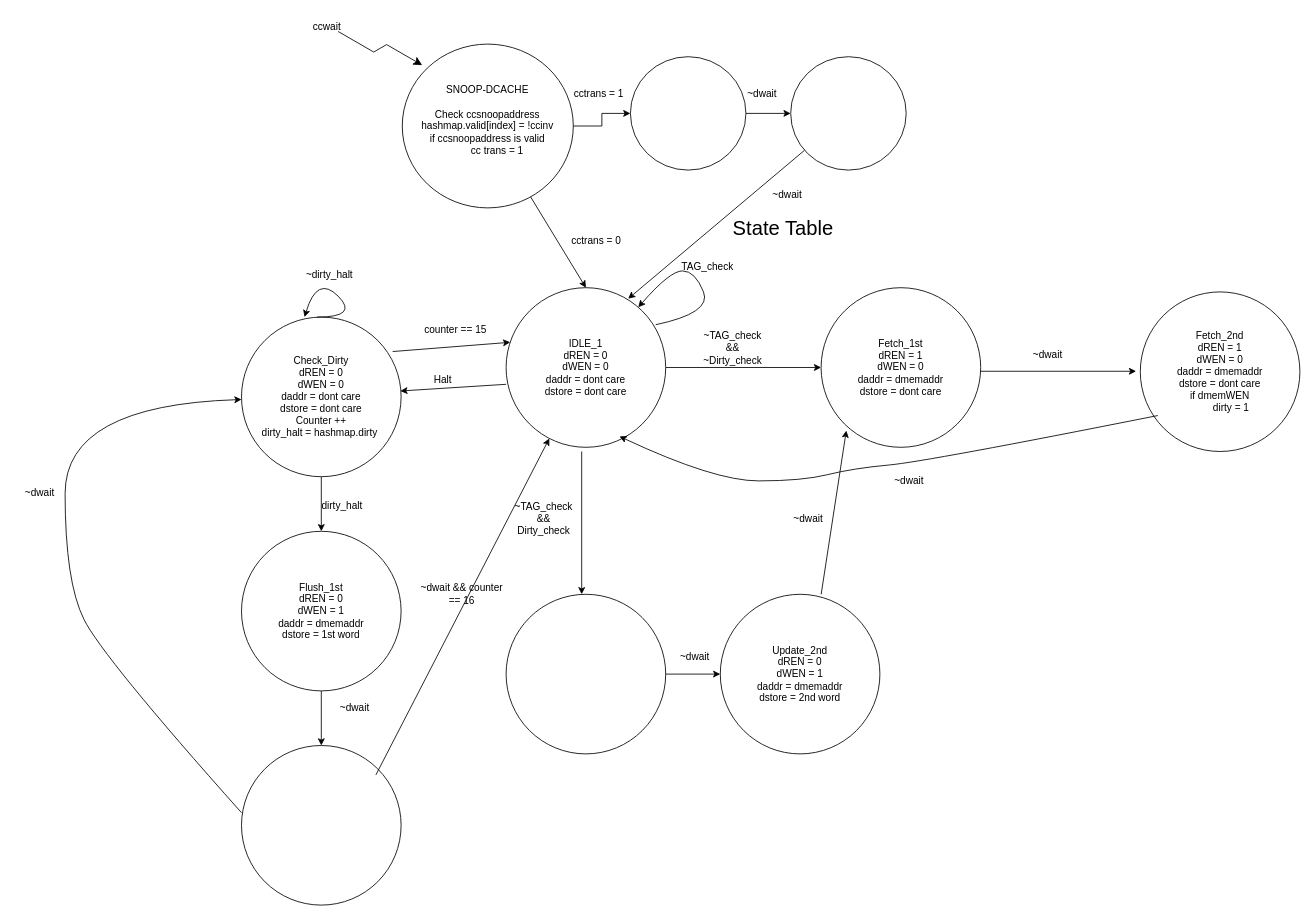
Image size: 1315x920. Some labels were removed from this diagram. The centre of each missing label's shape, as x and y in pixels:
Flush_2nd dREN = 0 dWEN = 1 daddr = dmemaddr dstore = 2nd word: pixel 321 825
Send word1 daddr = ccsnoopaddr dstore = hashmap: pixel 688 113
Send word2 daddr = ccsnoopaddr + 4 dstore = hashmap: pixel 848 113
Update_1st dREN = 0 dWEN = 1 daddr = dmemaddr dstore = 1st word: pixel 585 673
